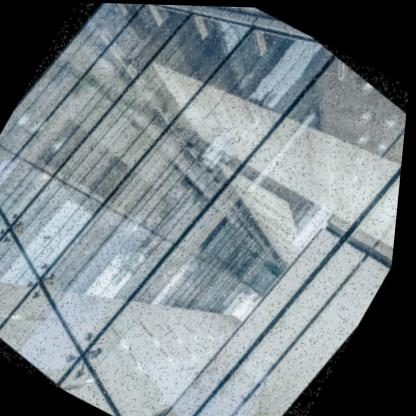Window: (62, 15, 415, 416), (11, 1, 341, 394), (0, 0, 264, 318)
